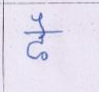ai_matra: (31, 13, 49, 31)
